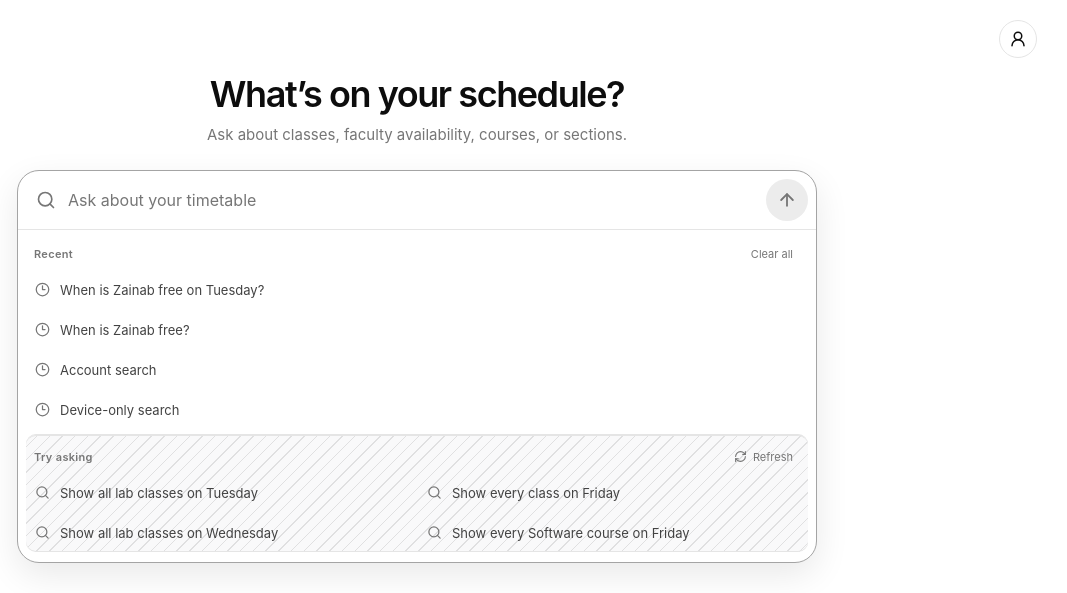
account deletion requires explicit confirmation and shows request progress
What coordinates should you click on to do the following:
click the button named "Open account menu"
I would click on:
 (1018, 39)
Its box is [999,20,1037,58].
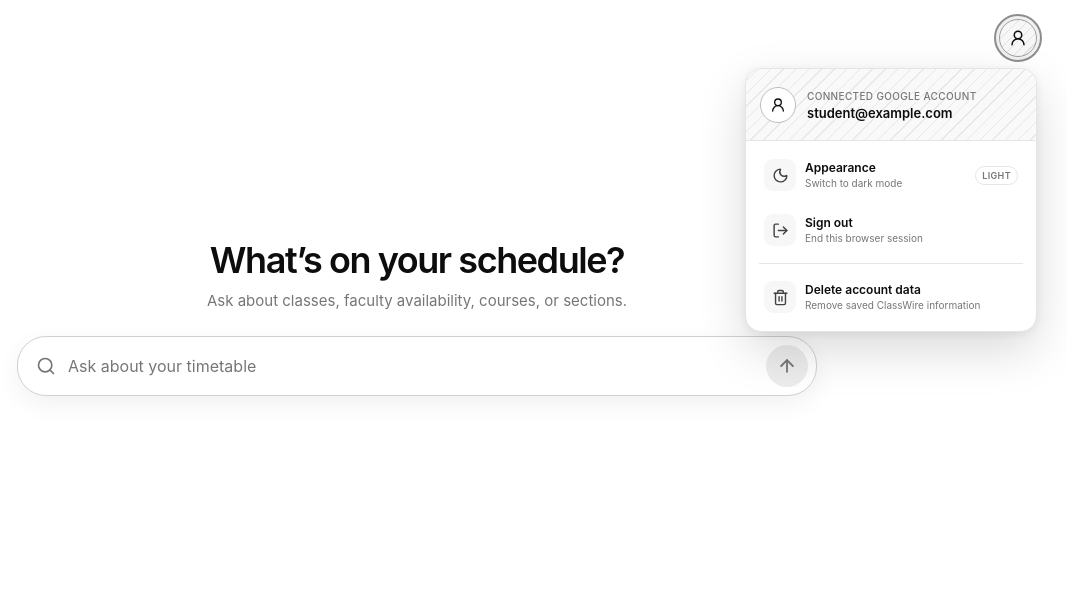
What coordinates should you click on to do the following:
click the menu item "Delete account data"
I would click on:
 (891, 297)
Its box is [754,271,1028,323].
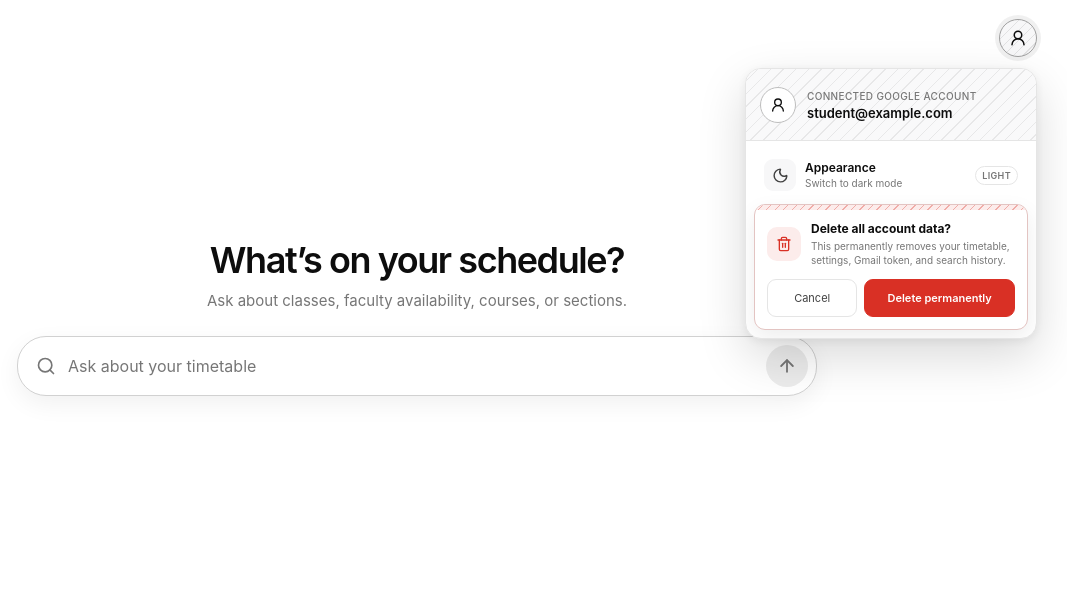
Now the text "Delete all account data?" is shown, box [811,221,951,236]
What coordinates should you click on to do the following:
click the button "Delete permanently"
I would click on:
 (940, 298)
Its box is [864,279,1015,317].
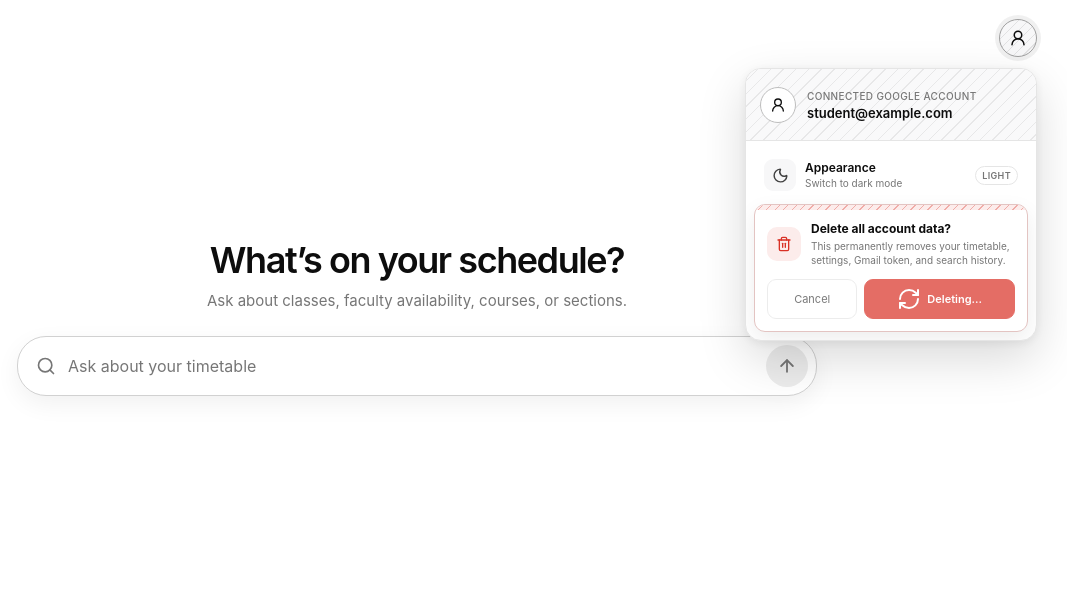
Now the button "Deleting..." is disabled, box [864,279,1015,319]
